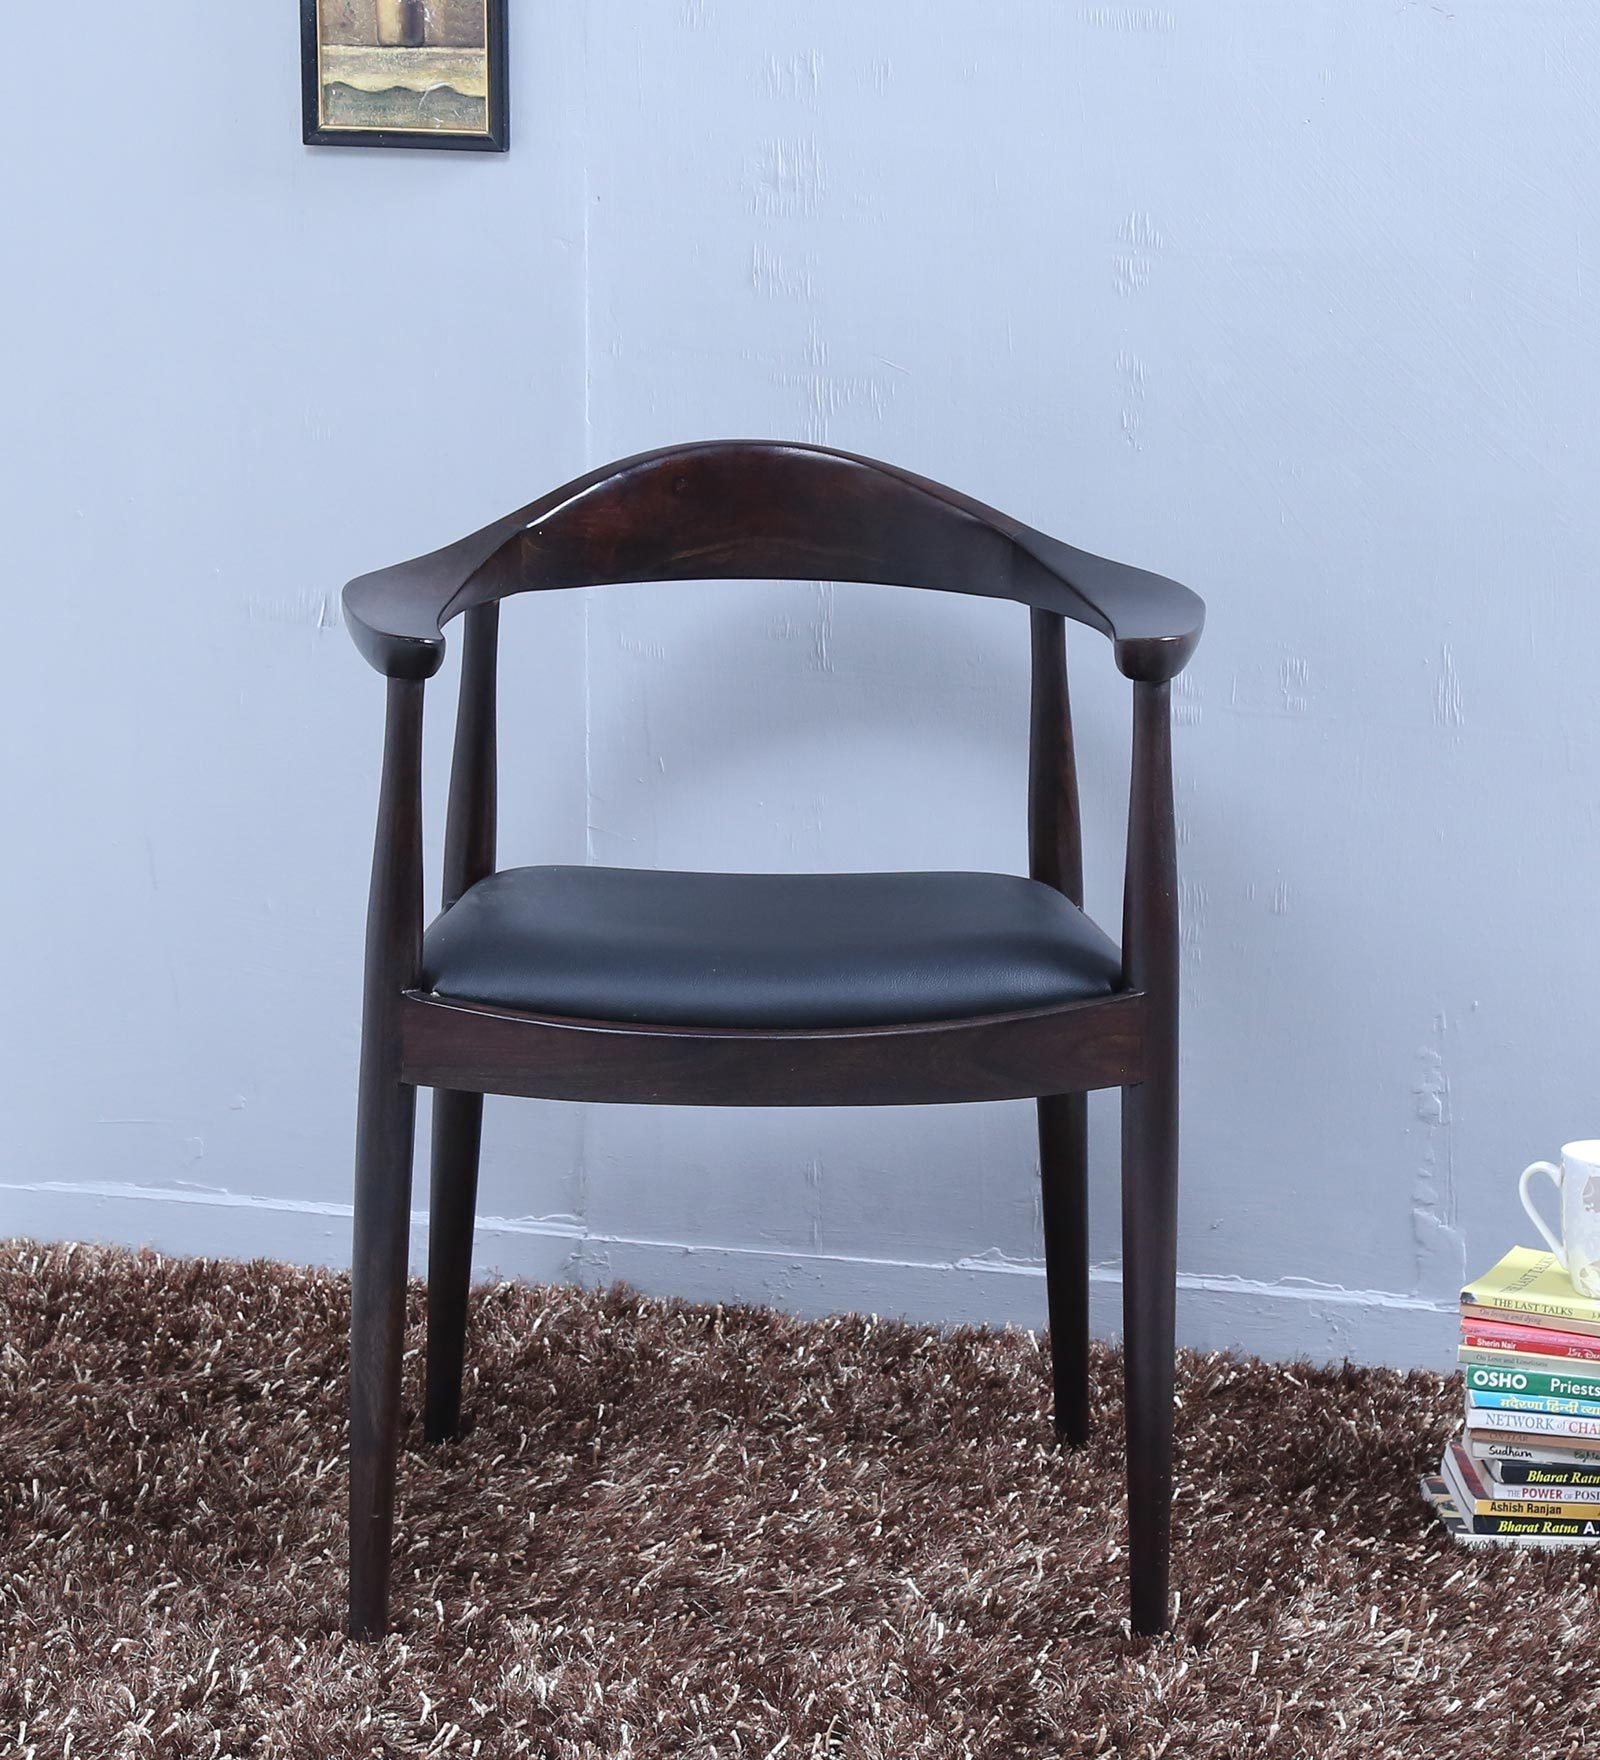Esvelt Arm Chair in Warm Chestnut Finish by Woodsworth: (290, 405, 1244, 1702)
